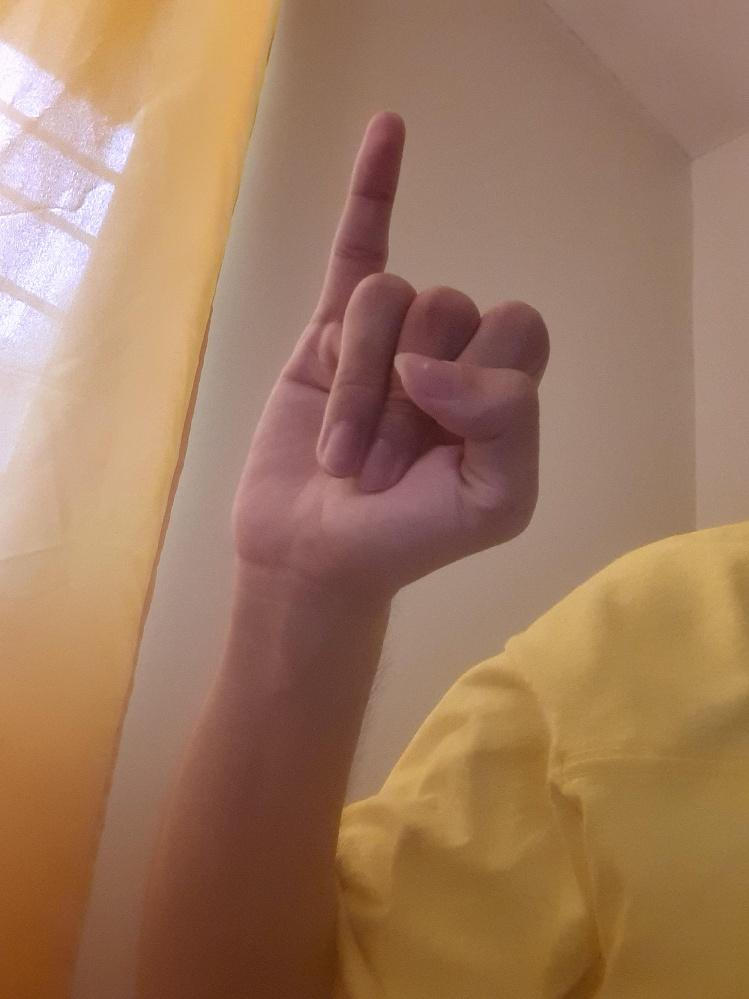i: (231, 107, 552, 581)
